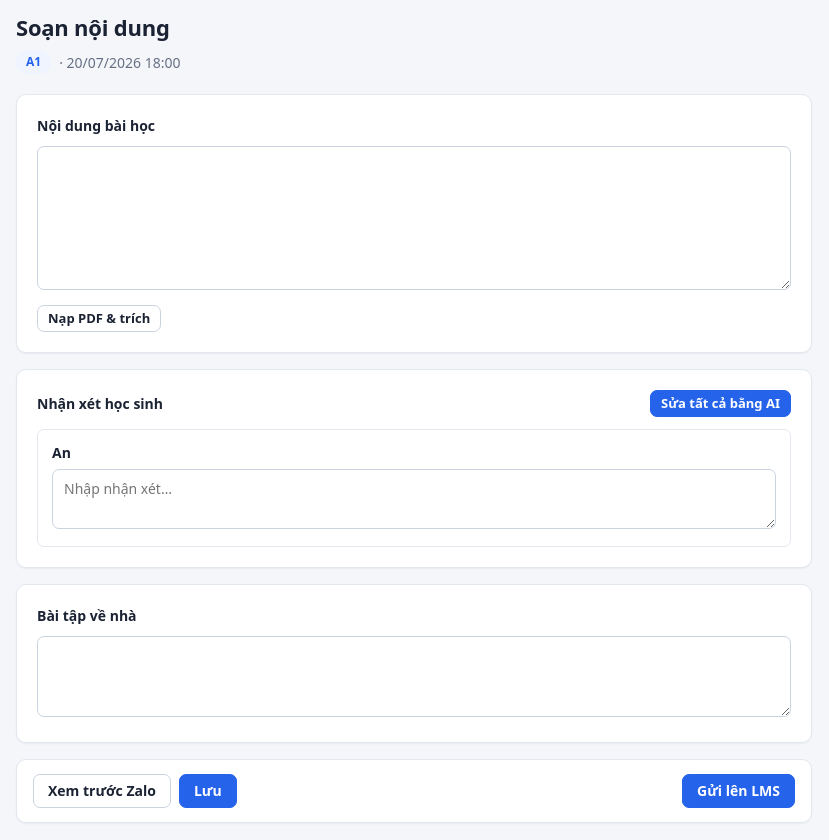
Test: SessionComposer › "Xem trước" dựng tin Zalo có tên lớp, bài học, nhận xét, bài tập
Expected: the text box named "nhận xét An" is shown, 52,469 -> 776,529
Type "Phép cộng" into the text box named "nội dung bài học" below "Nội dung bài học" at (414, 218), box 37,146 -> 791,290
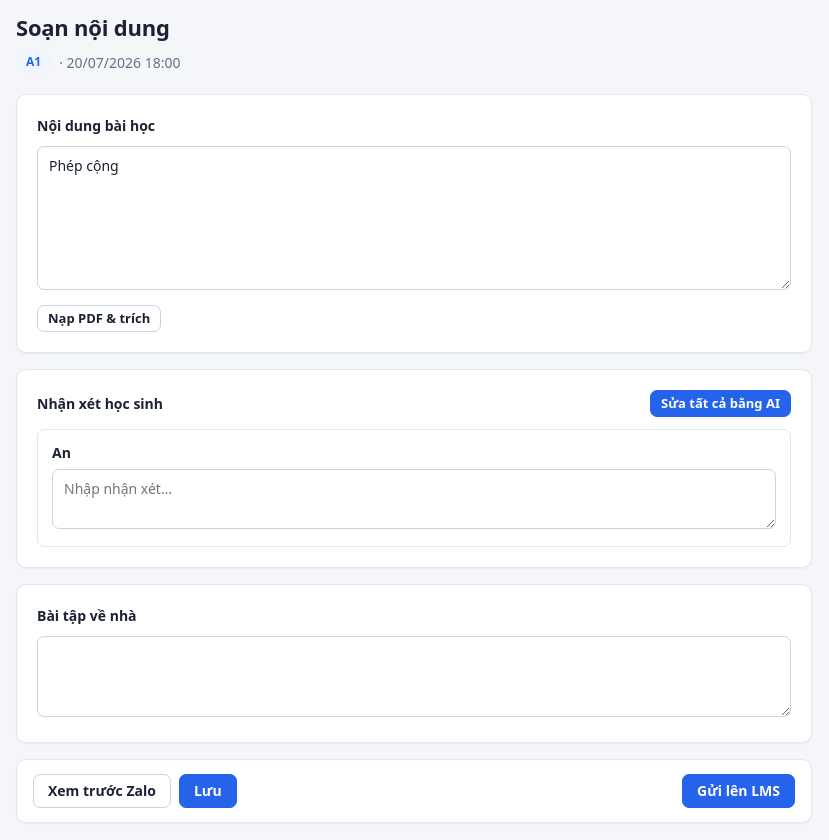
Type "ngoan" into the text box named "nhận xét An" at (414, 499), box 52,469 -> 776,529
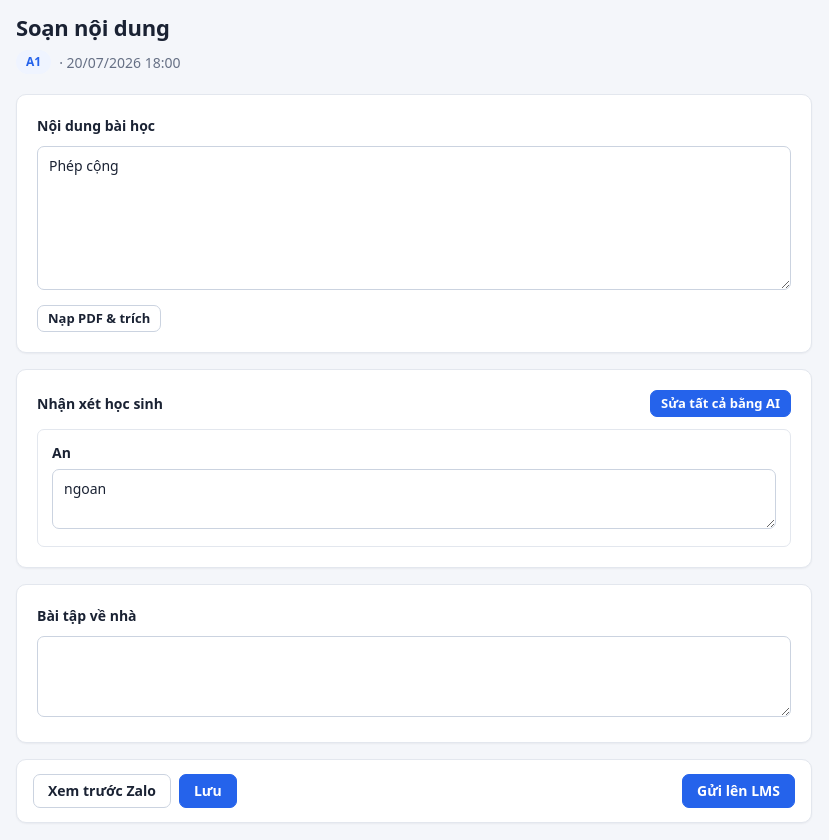
Type "Làm bài 5" into the text box named "bài tập về nhà" below "Bài tập về nhà" at (414, 676), box 37,636 -> 791,717
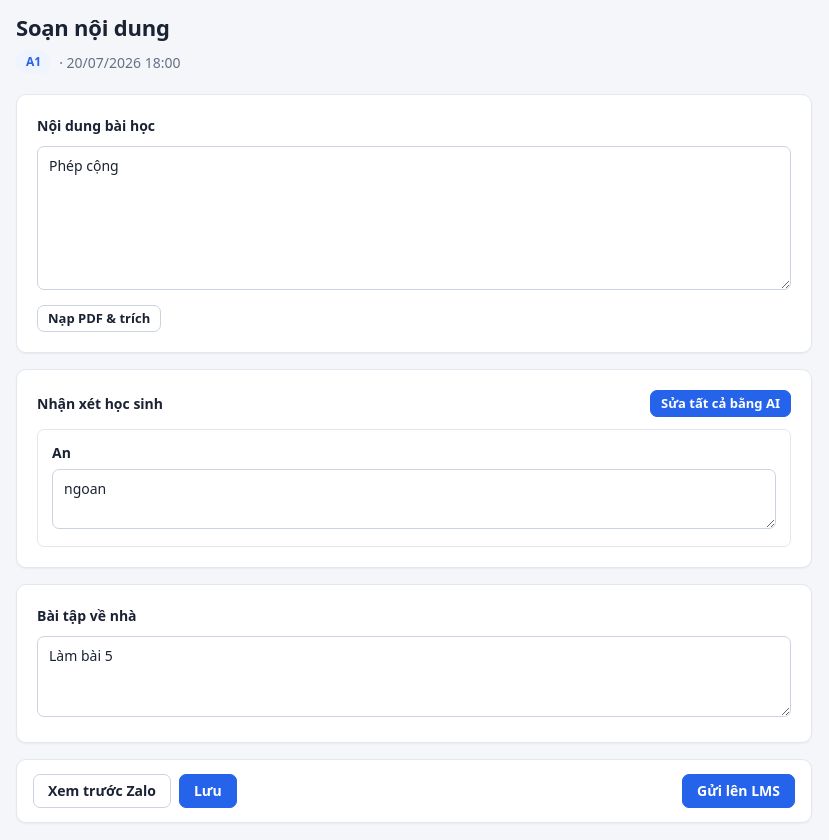
Click the button "Xem trước Zalo" at (102, 791), box 33,774 -> 171,808
(page scrolled)
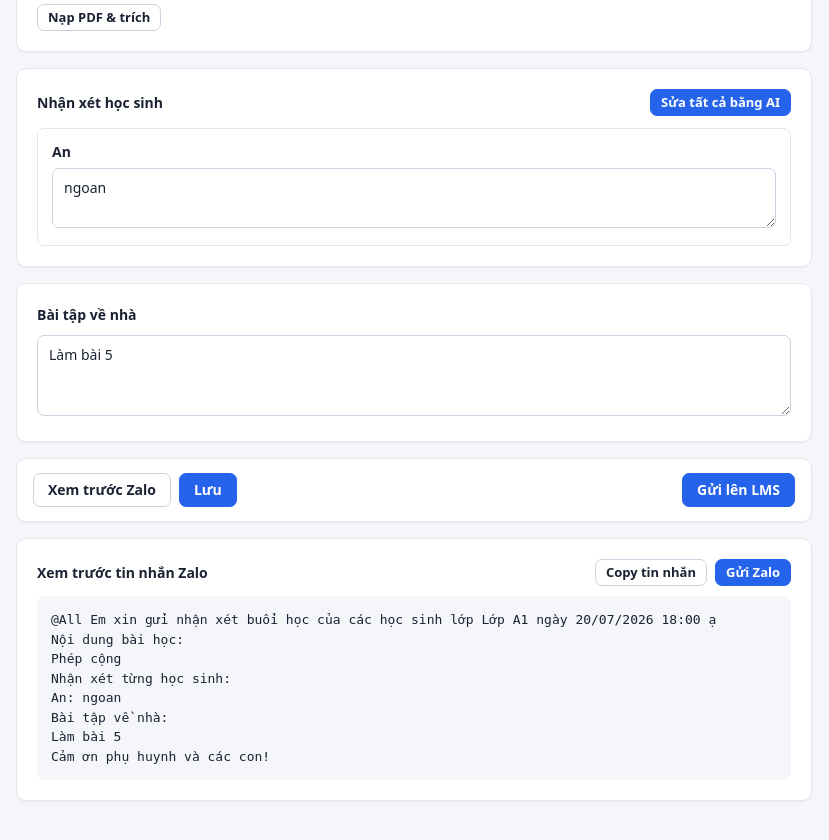
Result: the text named "xem trước zalo" shows "lớp Lớp A1 ngày 20/07/2026 18:00" at 51,612 -> 716,764
Result: the text named "xem trước zalo" shows "Phép cộng" at 51,612 -> 716,764
Result: the text named "xem trước zalo" shows "An: ngoan" at 51,612 -> 716,764
